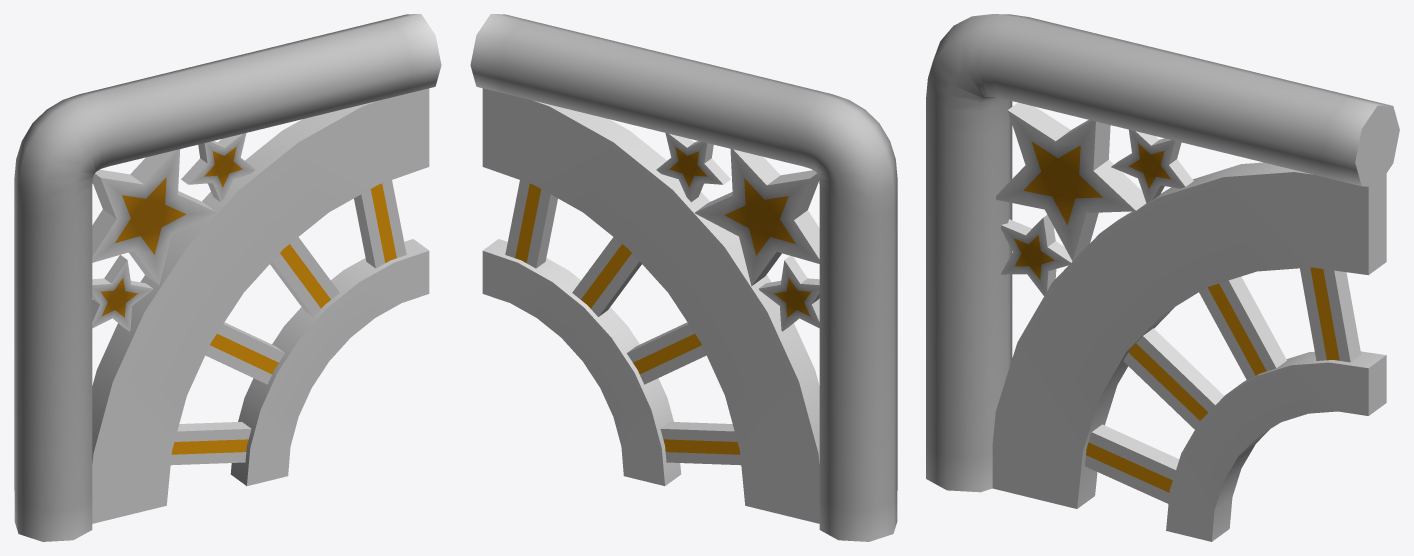
The model's file is obj_dekotora_railing01.fbx.
The picture shows the model from 3 angles, left to right: view 1: azimuth 30°, elevation 25°; view 2: azimuth 150°, elevation 25°; view 3: azimuth 330°, elevation 25°; orthographic projection. The views are drawn at different scales.
Visible parts, largest first — view 1: Cylinder.042; view 2: Cylinder.042; view 3: Cylinder.042.
Boxes of the visible parts, box(x1,y1,x2,y2) form: Cylinder.042: box(14, 14, 441, 541); Cylinder.042: box(470, 14, 897, 541); Cylinder.042: box(926, 14, 1399, 541).
Bounding box in the file's own units: 4 × 4 × 0.6929.
